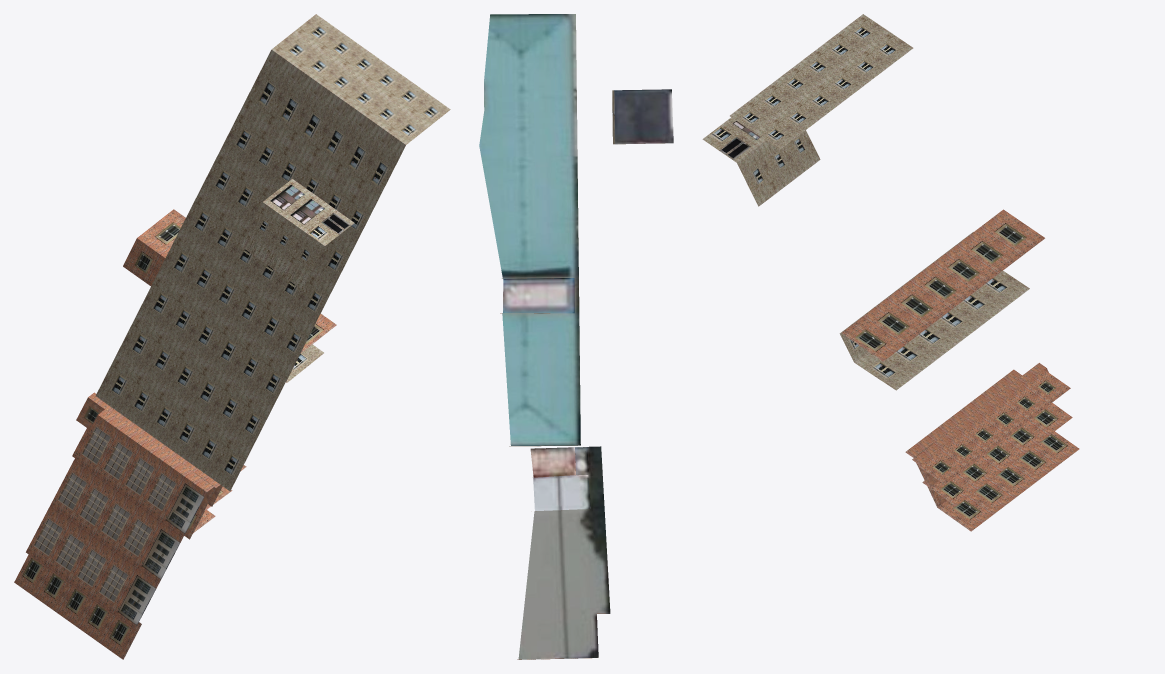
3 renders of one model, left to right at view 1: azimuth 30°, elevation 25°; view 2: azimuth 150°, elevation 25°; view 3: azimuth 270°, elevation 25°, orthographic. The views are drawn at different scales.
Size of the model in its own units: 38.64 by 83.93 by 51.89.
19 materials, 19 textured.
